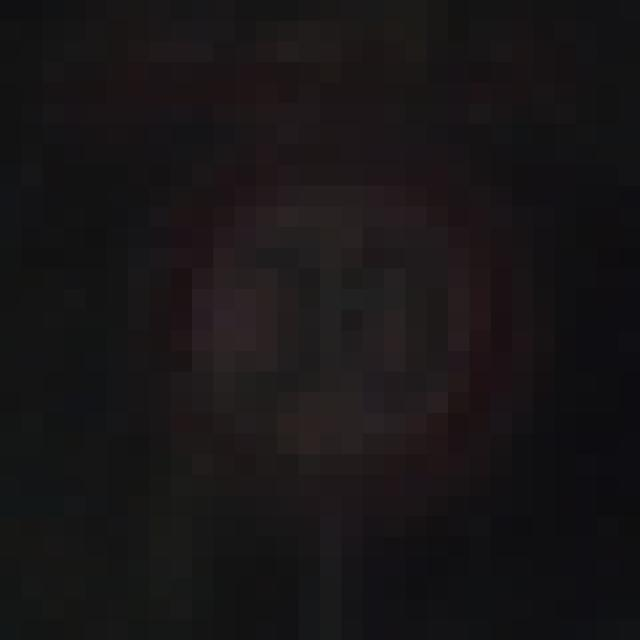Speed Limit -30-: (118, 93, 502, 506)
